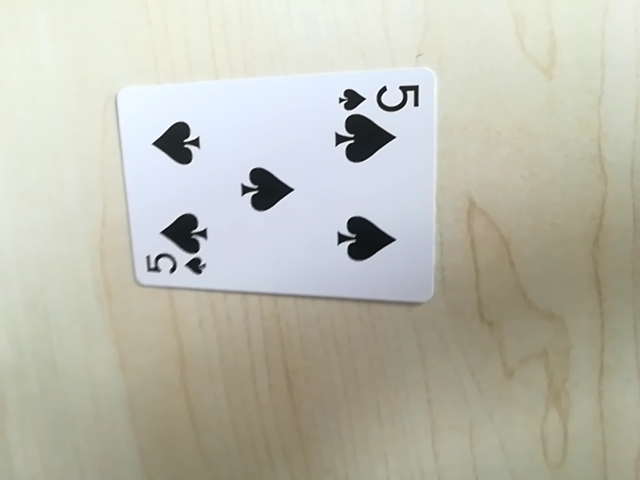ht 5: (337, 78, 420, 116), (142, 247, 211, 283)
